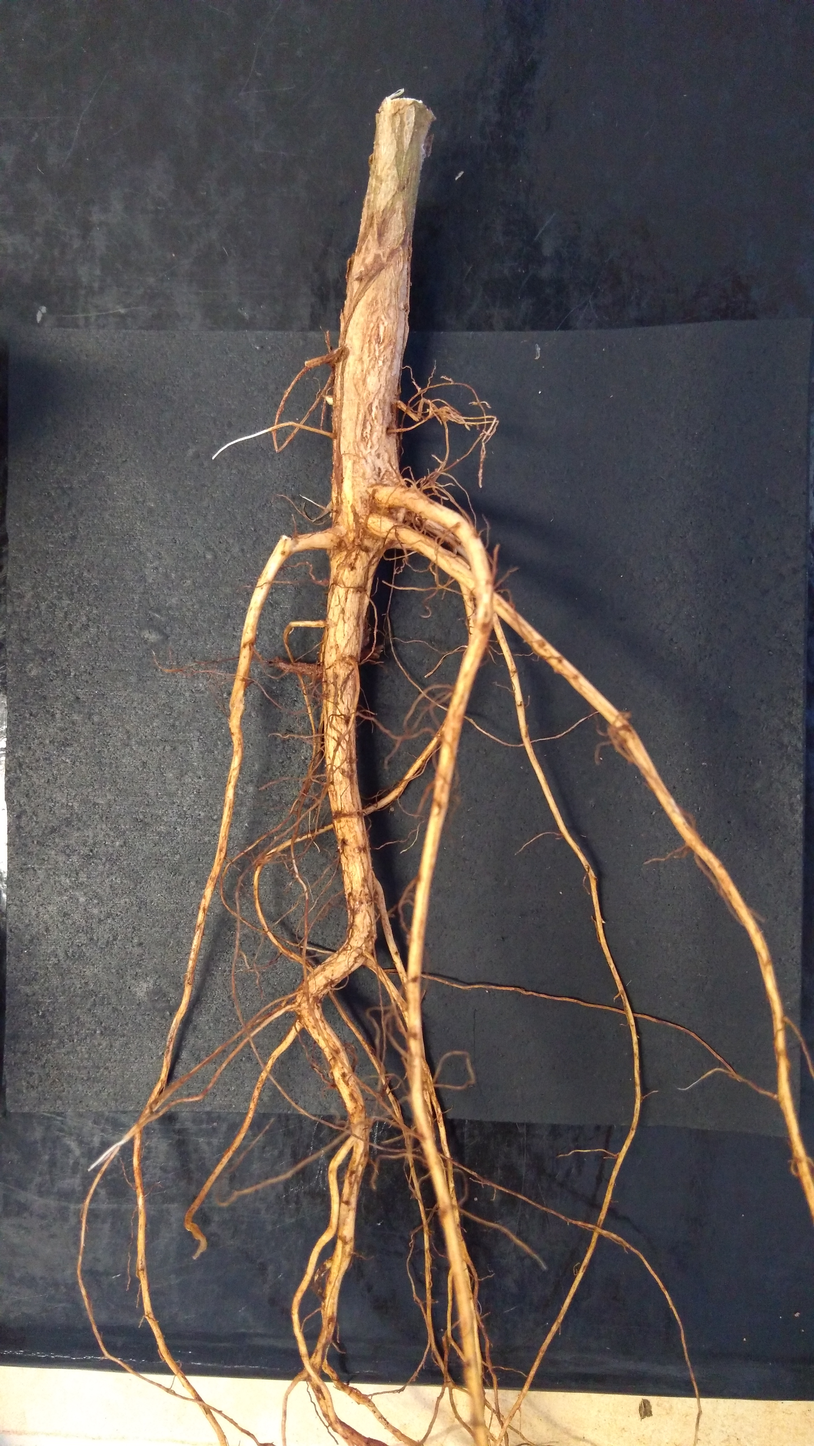nodule: (439, 406, 454, 423), (361, 626, 372, 647), (324, 394, 335, 406), (389, 806, 395, 812)
